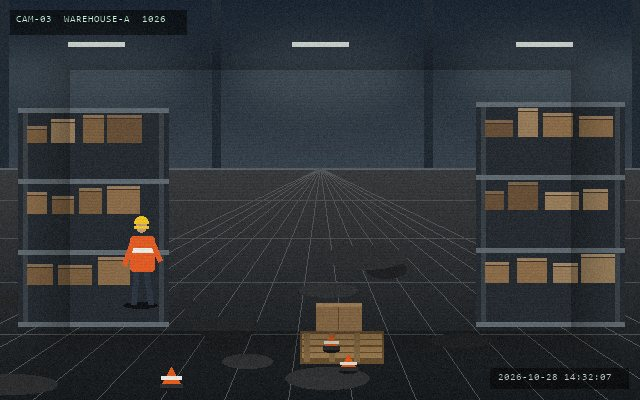cone: (159, 365, 183, 390), (338, 352, 358, 373), (322, 331, 340, 352)
pallet: (341, 347, 342, 347)
person: (122, 214, 162, 307)
shelf: (476, 102, 624, 322), (18, 108, 168, 322)
